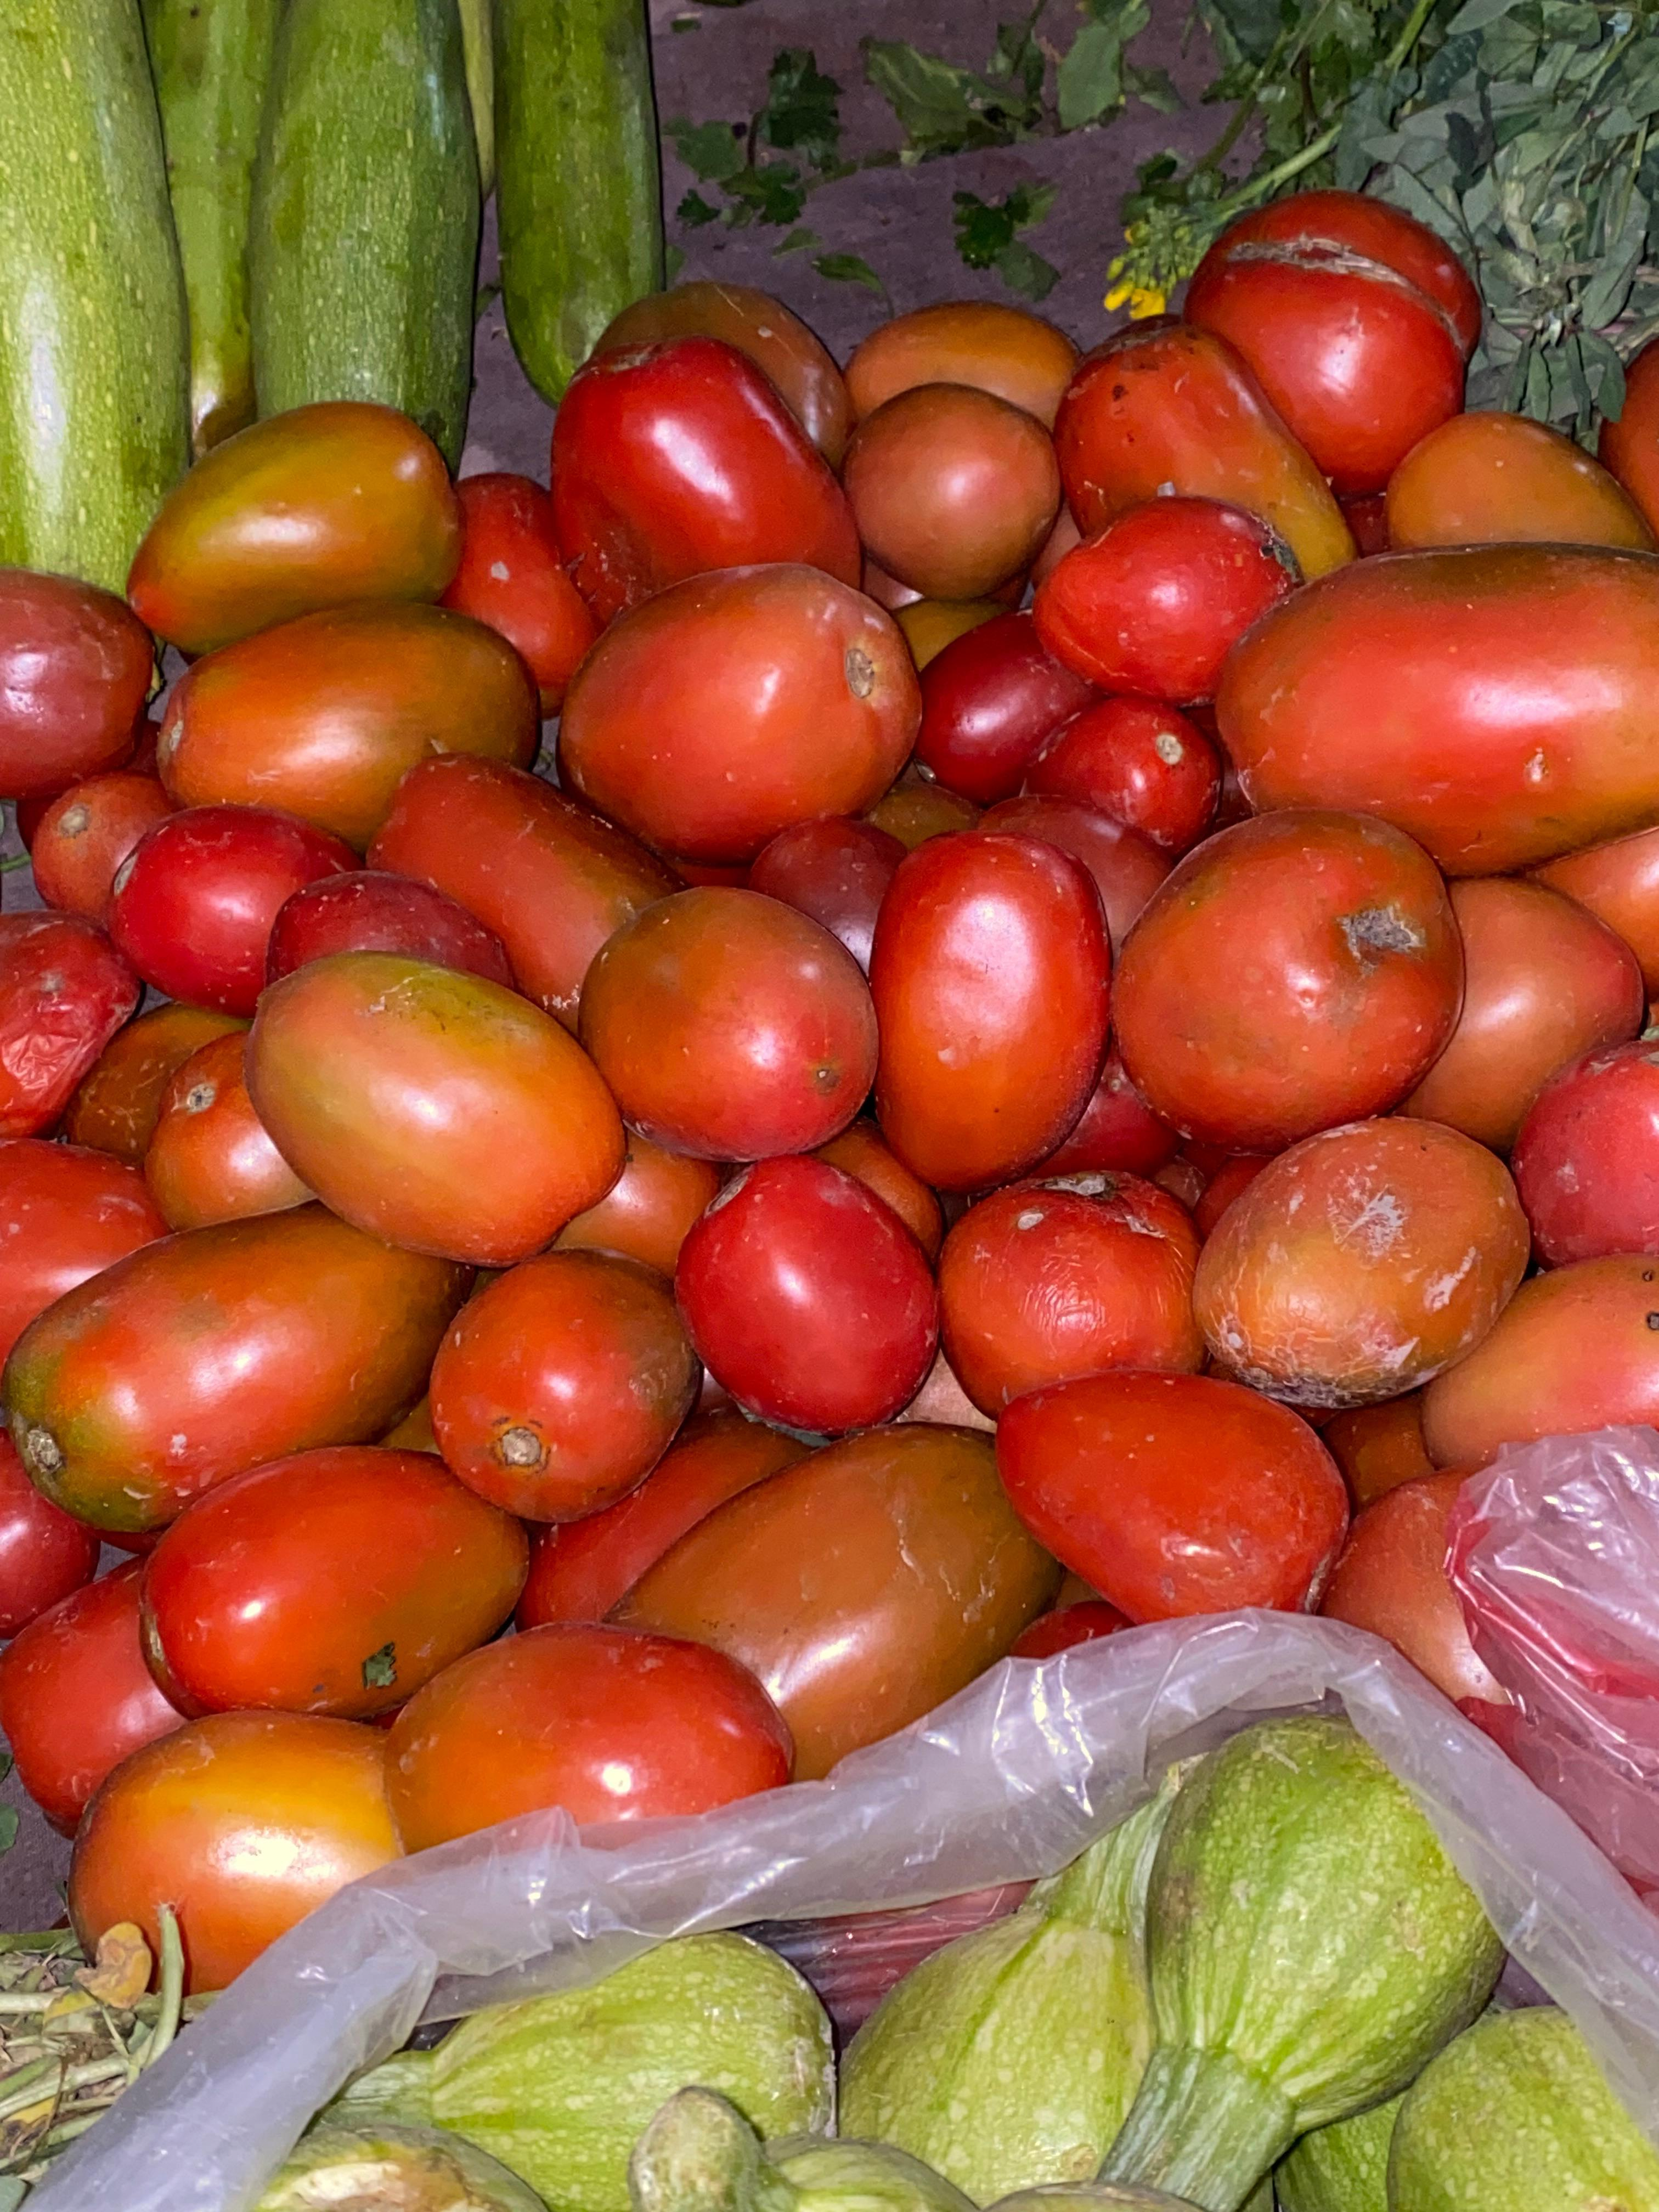organic: (606, 1426, 1046, 1785), (1216, 543, 1654, 876), (235, 939, 627, 1256), (1114, 812, 1459, 1148), (136, 1446, 528, 1730), (554, 556, 917, 843), (70, 1709, 416, 2003), (382, 1620, 800, 1858), (1192, 1116, 1530, 1406), (152, 603, 537, 855), (995, 1371, 1340, 1637), (547, 336, 870, 617), (1187, 190, 1481, 493), (579, 887, 889, 1169), (125, 404, 469, 657), (864, 833, 1115, 1177), (373, 759, 687, 1031), (1056, 326, 1351, 594), (673, 1160, 946, 1435), (425, 1252, 702, 1521), (518, 1413, 814, 1637), (1396, 883, 1652, 1143), (941, 1181, 1201, 1414), (103, 808, 362, 1021), (0, 1557, 193, 1839), (1319, 1470, 1523, 1719), (840, 383, 1063, 603), (2, 1144, 174, 1411), (1384, 411, 1656, 557), (0, 568, 160, 805), (842, 301, 1075, 444), (971, 796, 1178, 953), (145, 1036, 315, 1226), (0, 914, 143, 1137), (263, 871, 505, 1000), (63, 998, 249, 1163), (1026, 695, 1216, 852), (28, 773, 181, 927)
